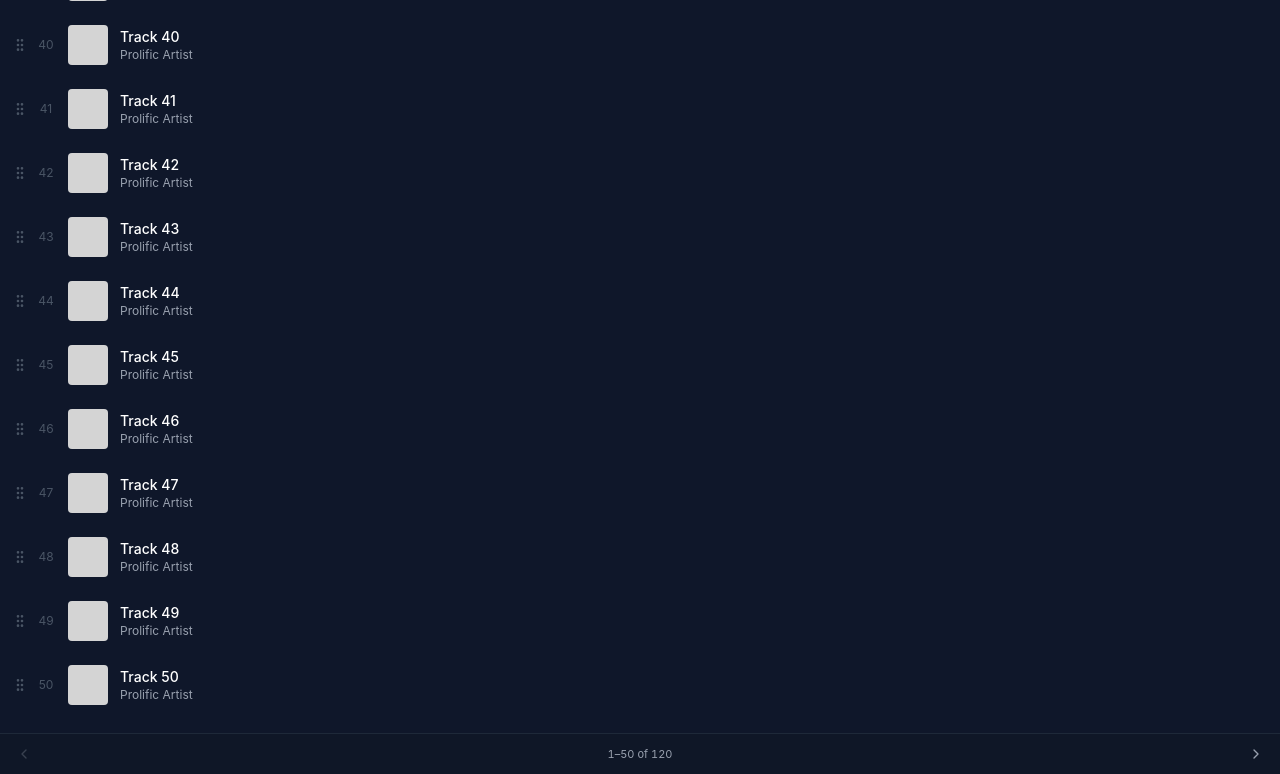
Scenario: QueueList paging › walks back to the first page
(page scrolled)
Step 1. Click the button named "Next page of queue" → (1256, 754), box [1244, 742, 1268, 766]
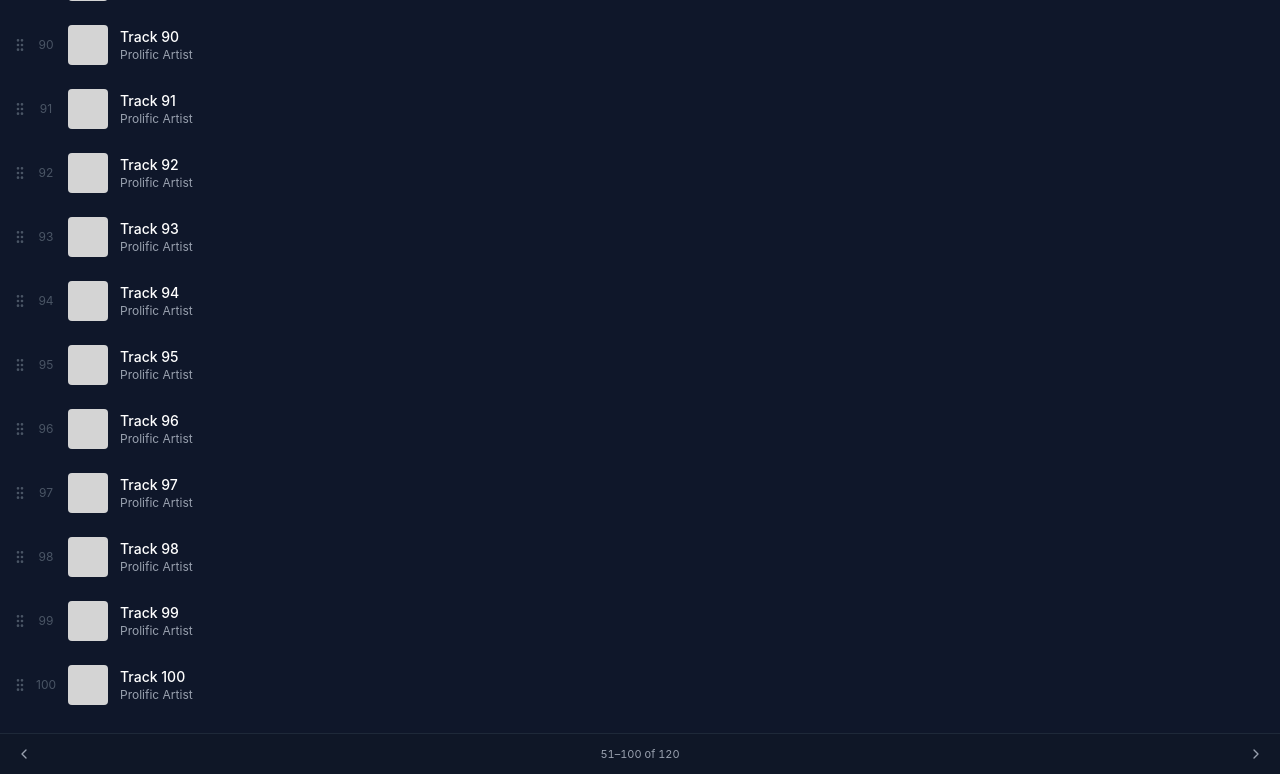
Step 2. Click the button named "Previous page of queue" → (24, 754), box [12, 742, 36, 766]
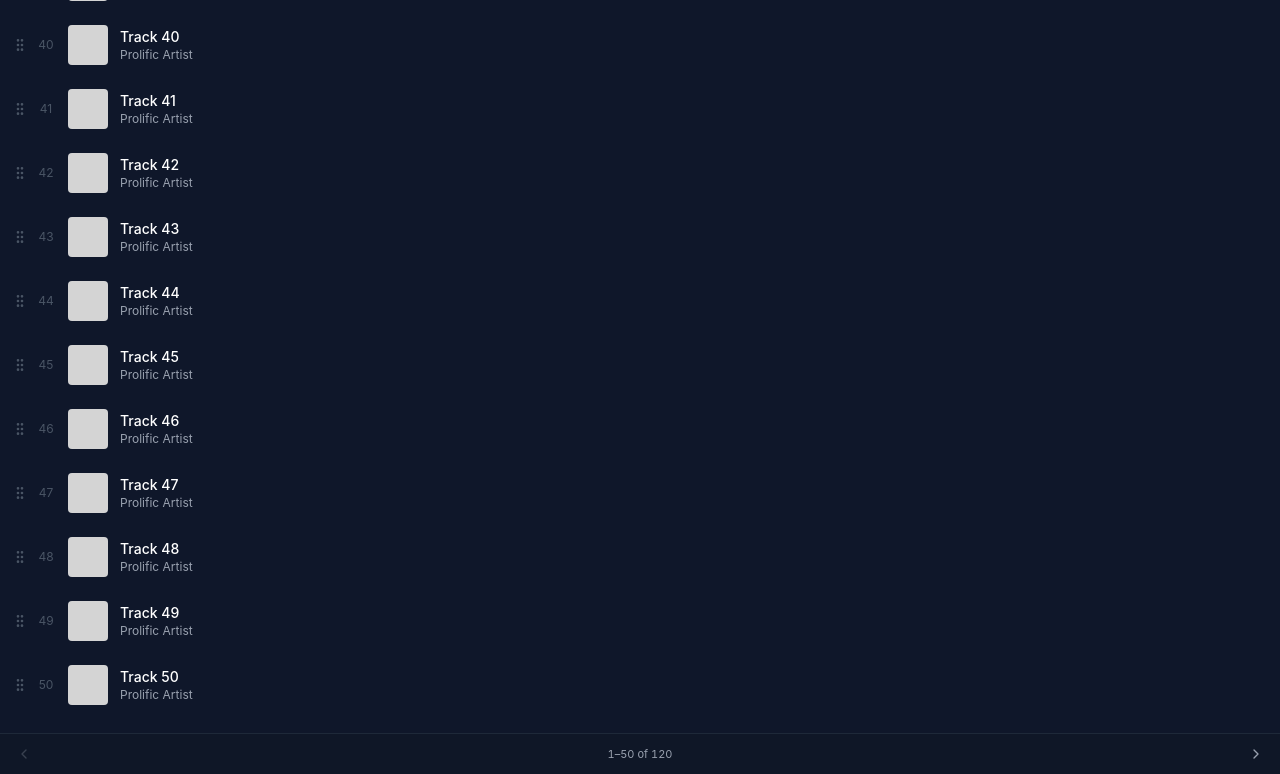
Expected: the button named "Previous page of queue" is disabled, [12, 742, 36, 766]
